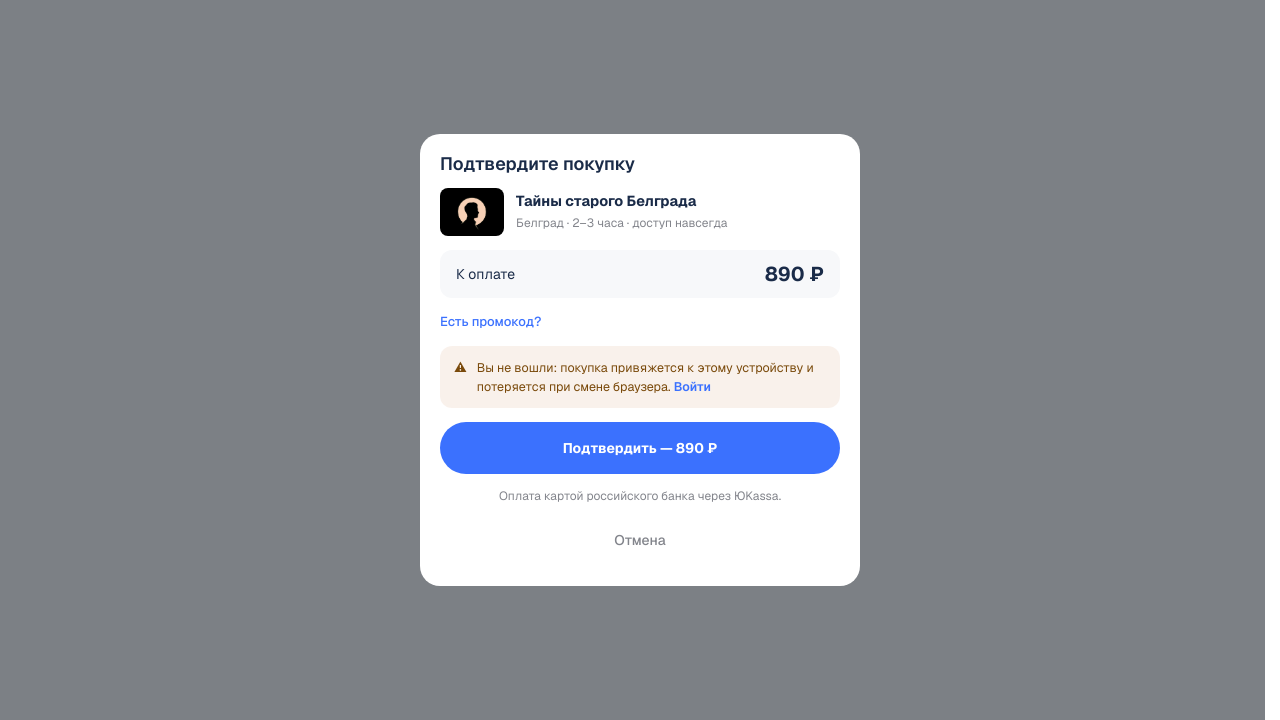
it: PurchaseSheet › reveals the promo input and applies a server-confirmed code
Click the button "Есть промокод?".
click(491, 322)  # box [440,312,541,332]
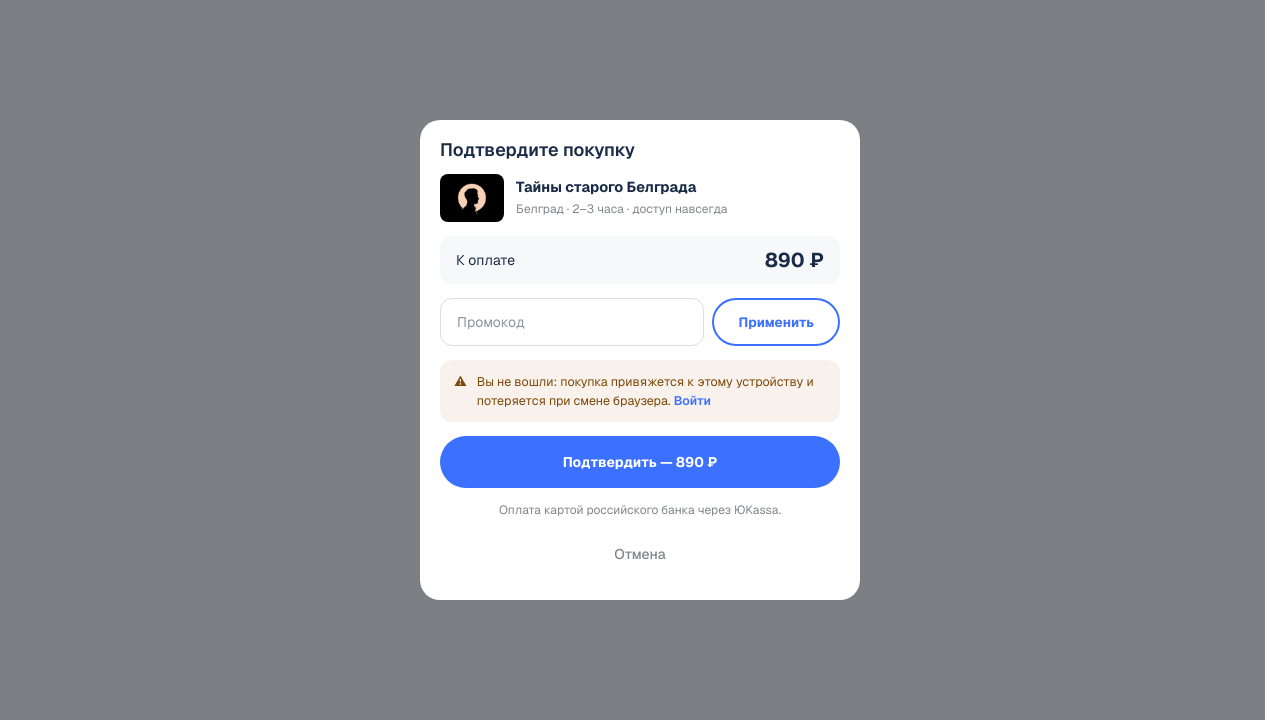
Type "geo-20" into the field with placeholder "Промокод".
click(572, 322); type("geo-20")  # box [440,298,704,346]
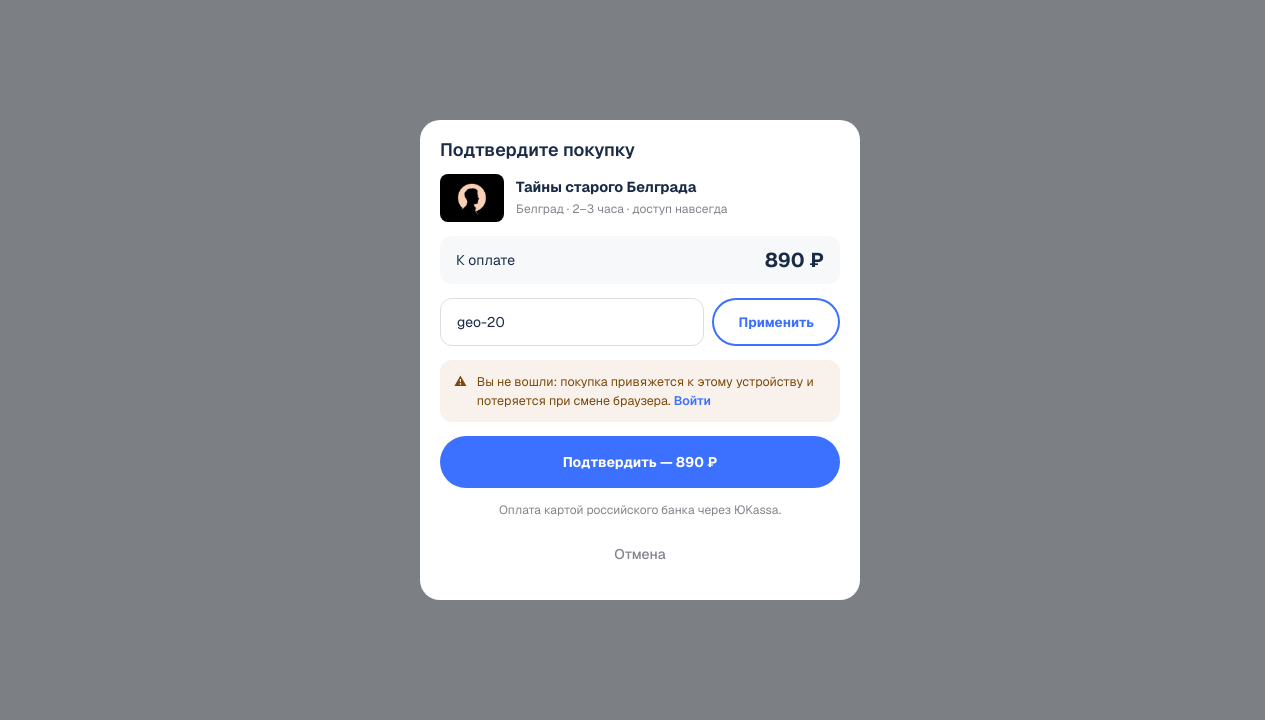
Click the button "Применить".
click(776, 322)  # box [712,298,840,346]
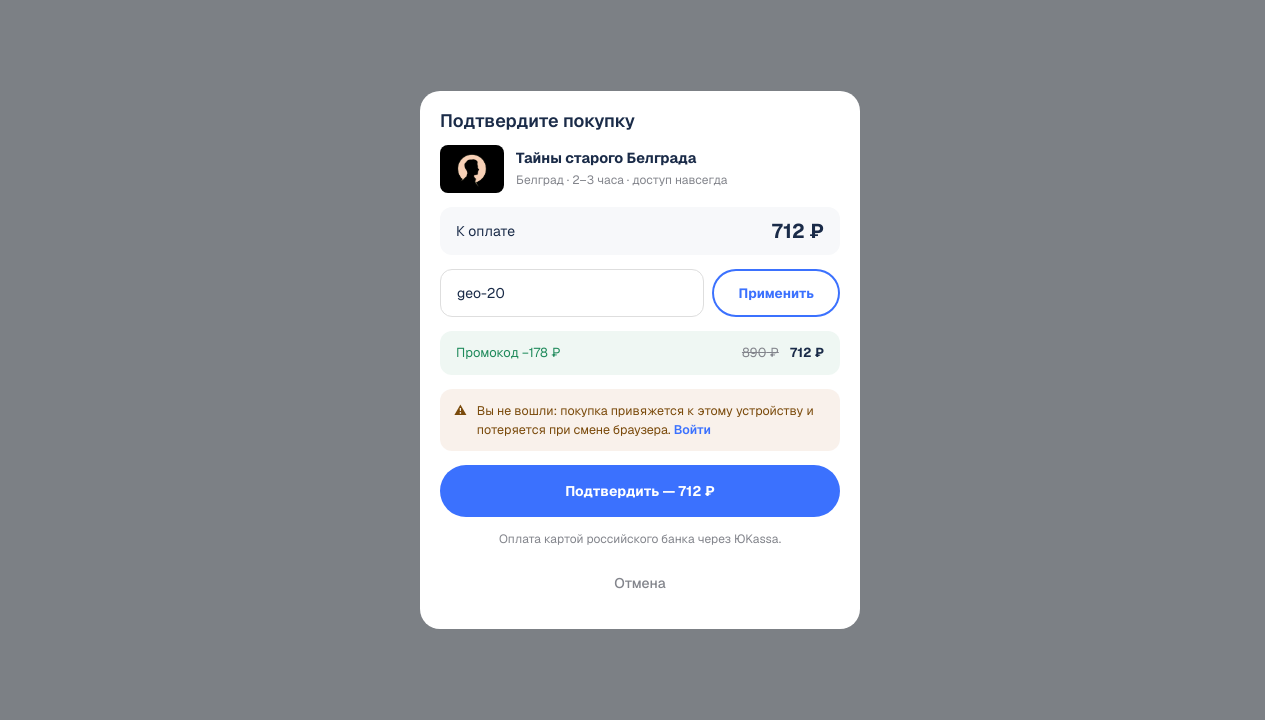
Result: the text "Промокод −178 ₽" is shown at [456,343,560,363]
Result: the button "Подтвердить — 712 ₽" is shown at [440,465,840,517]
